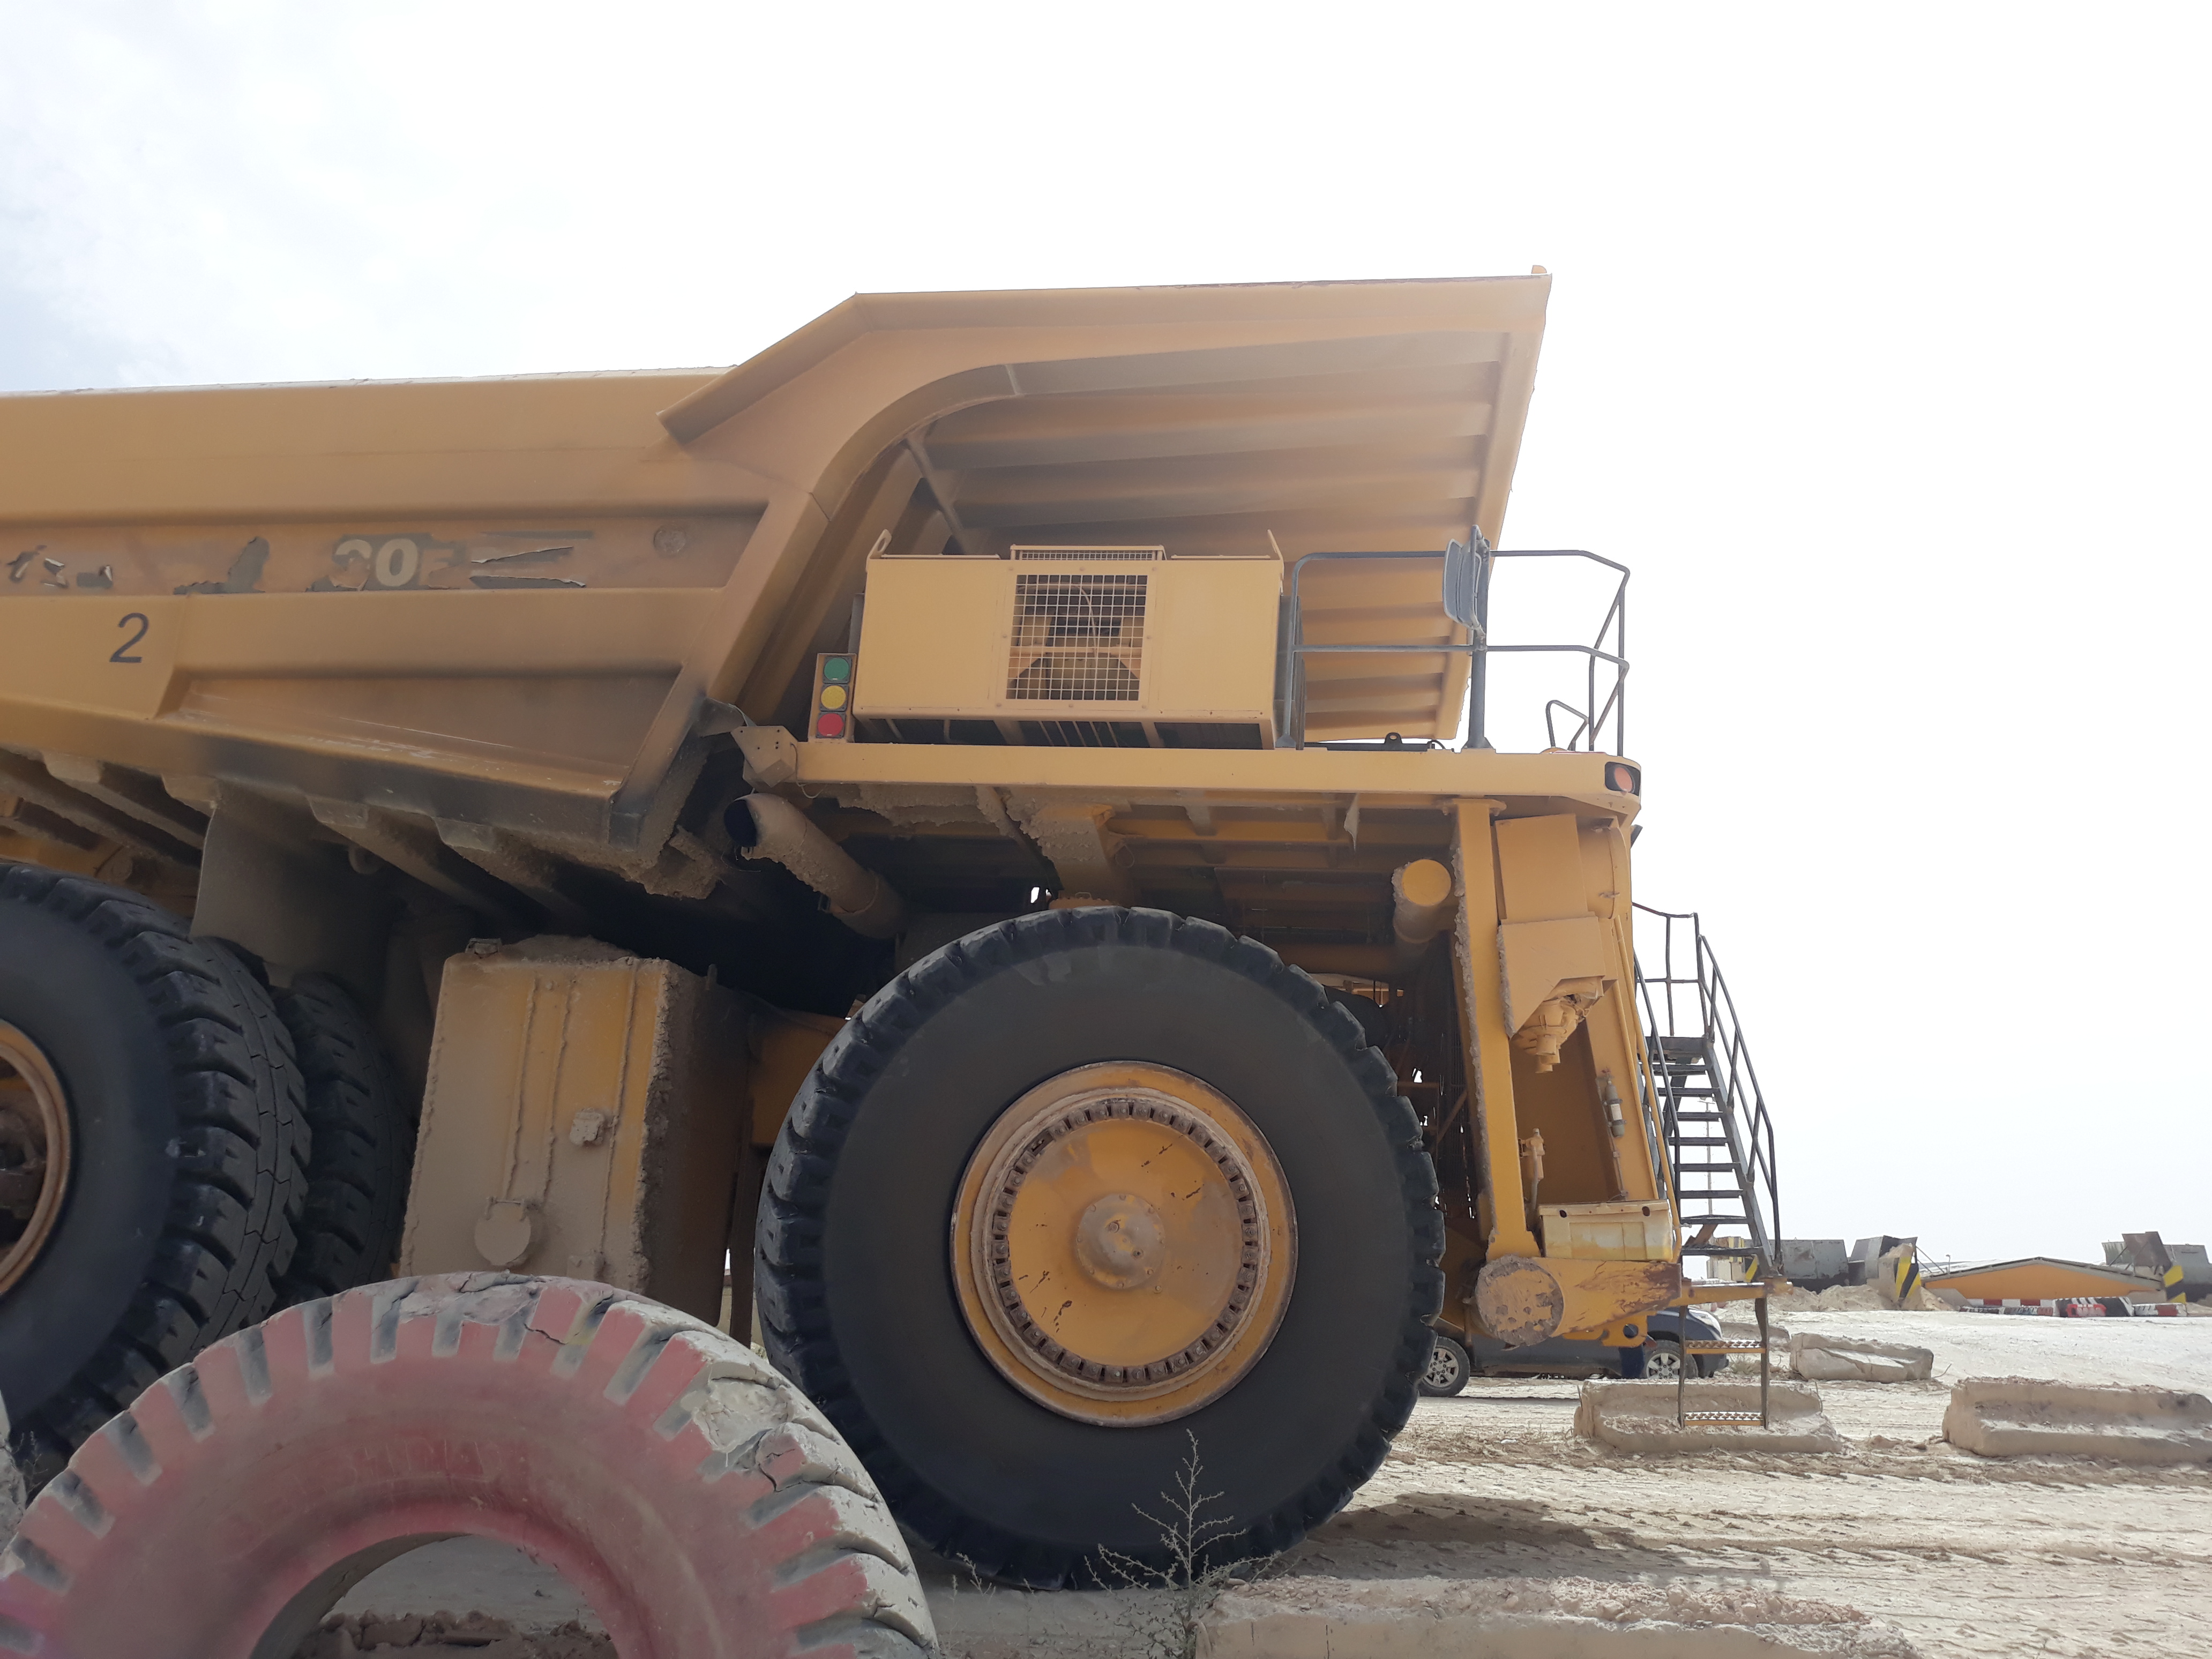camion: (0, 247, 1806, 1593)
